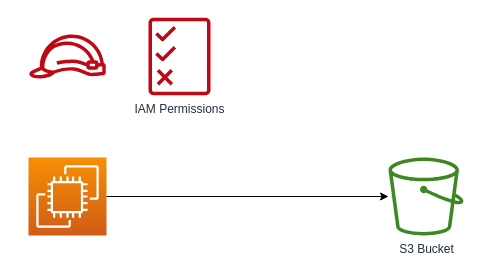
The diagram is 481 pixels wide and 273 high, and some of its shapes have lost their labels. Each missing label, with the centre of its shape:
EC2 Instance: point (67, 196)
EC2 Instance Role: point (67, 56)
